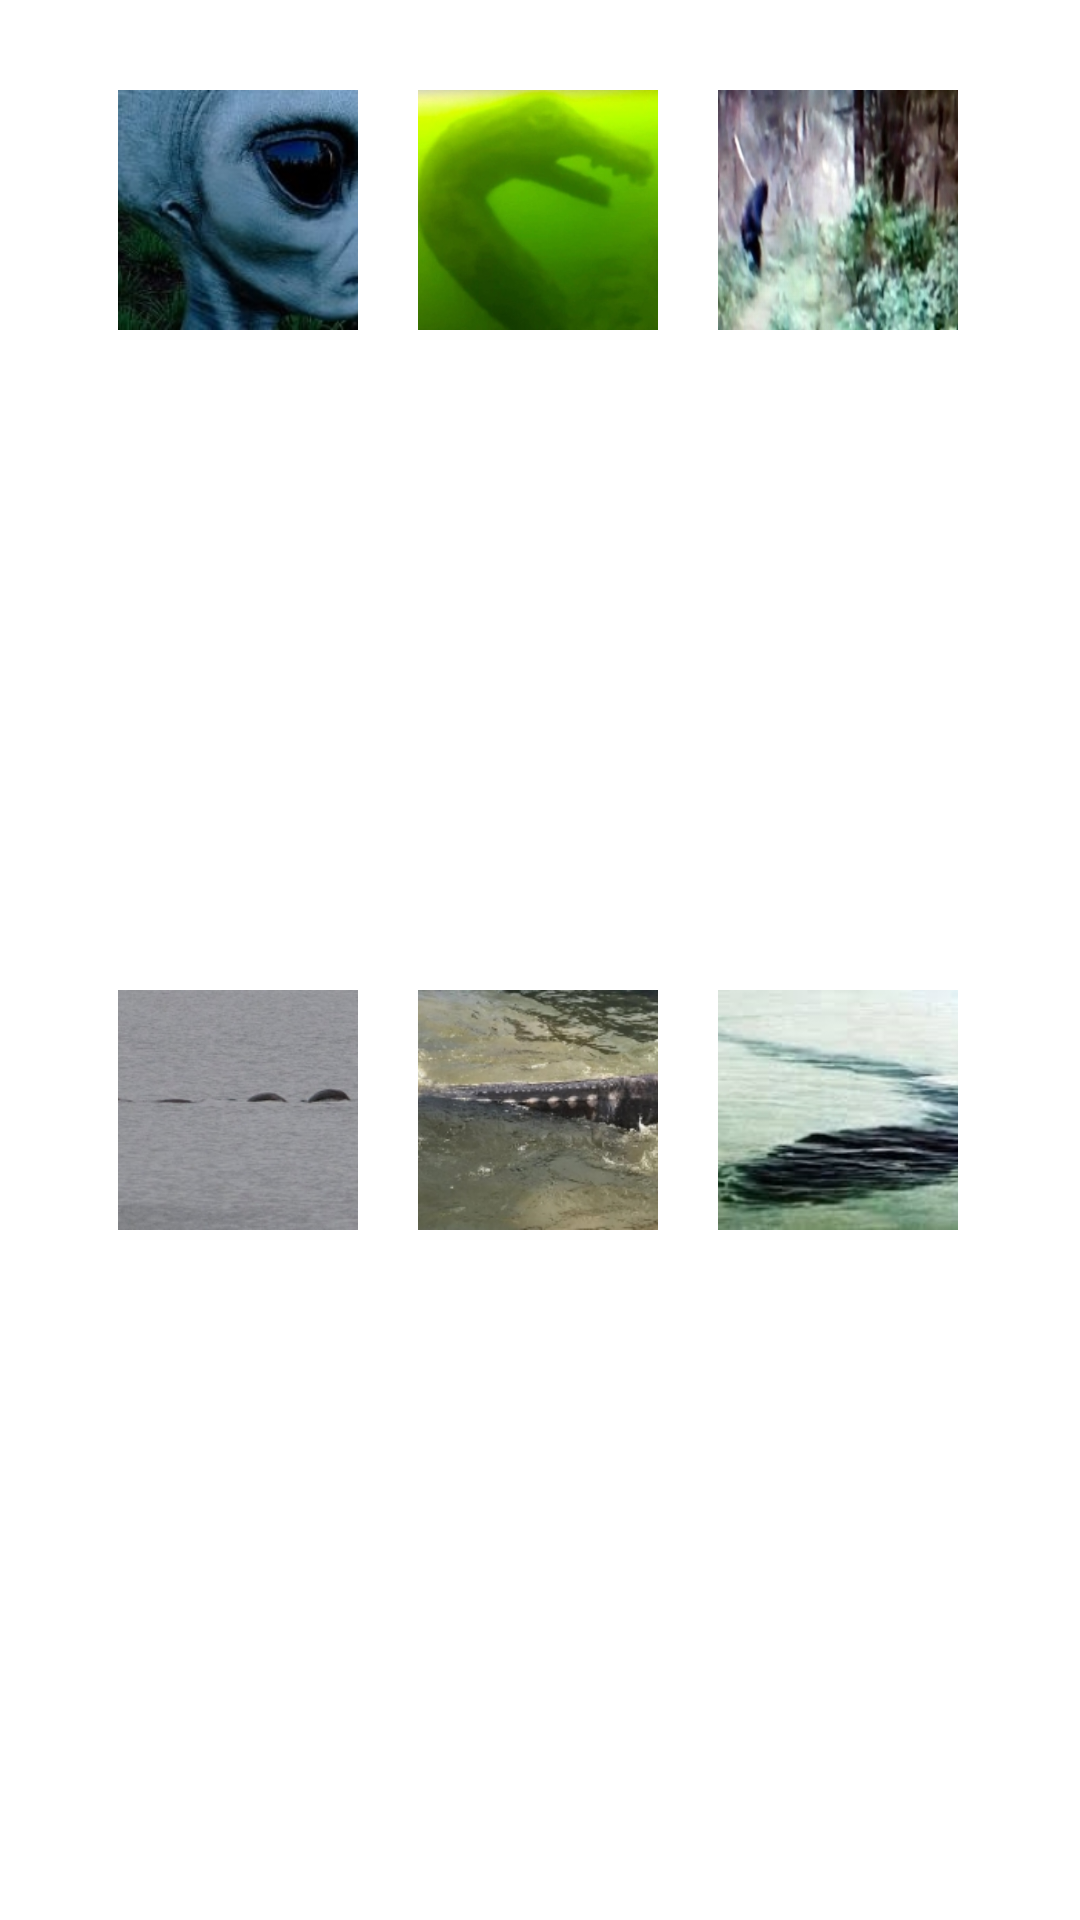

Screen size 1080 × 1920. Icon name, then its center in pixels as point (x, y):
alien: point (238, 210)
bigfoot blurry: point (838, 210)
ogopogo: point (538, 210)
ogopogo humps: point (238, 1110)
ogopogo sturgeon: point (538, 1110)
